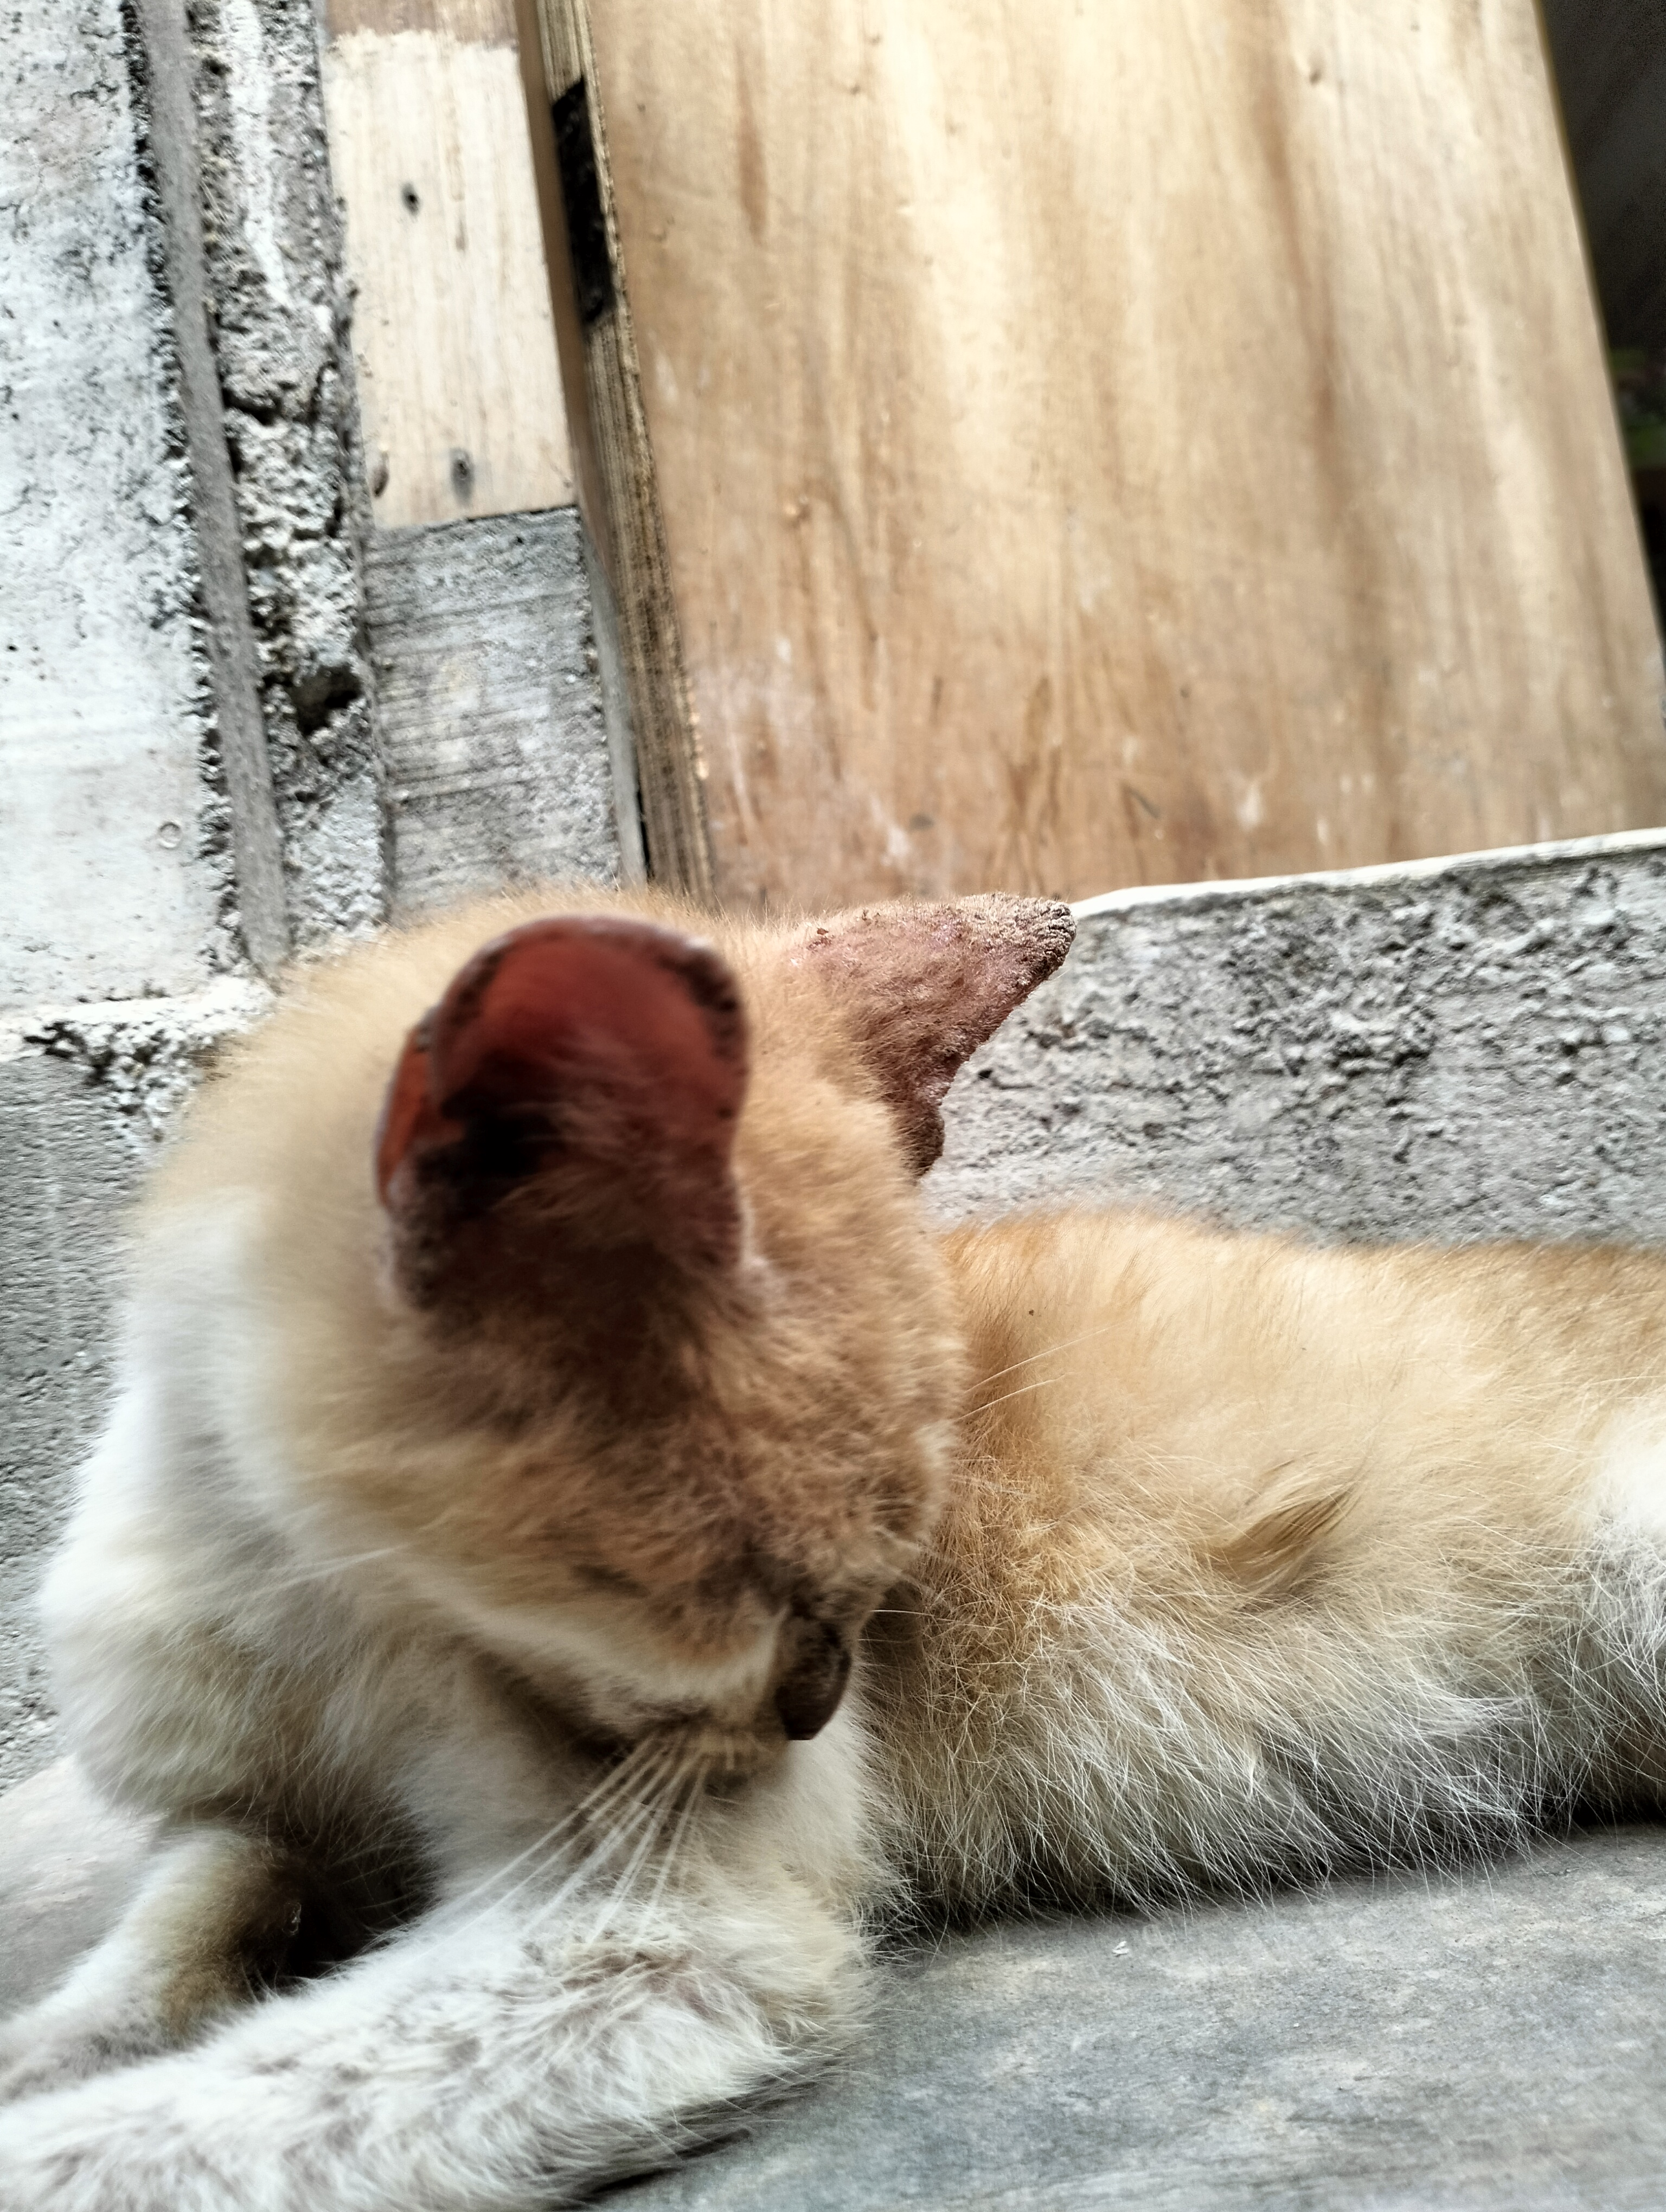cemong: (170, 829, 1230, 1805)
